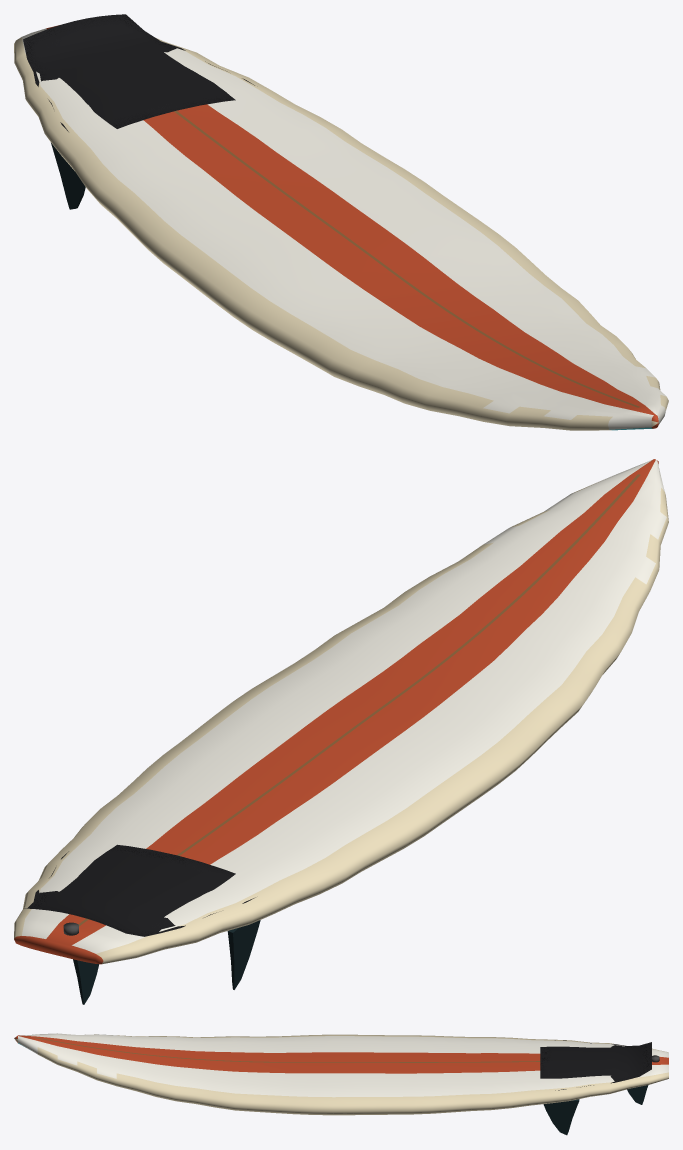
The model's file is board_retro.glb.
The picture shows the model from 3 angles, top to bottom: view 1: azimuth 30°, elevation 25°; view 2: azimuth 150°, elevation 25°; view 3: azimuth 270°, elevation 25°; orthographic projection. The views are drawn at different scales.
Visible parts, largest first — view 1: Board; view 2: Board; view 3: Board.
Boxes of the visible parts, bbox=[...] form: Board: bbox=[14, 14, 668, 430]; Board: bbox=[14, 459, 668, 1004]; Board: bbox=[14, 1033, 668, 1135].
Size of the model in its own units: 0.488 by 0.2397 by 1.83.
